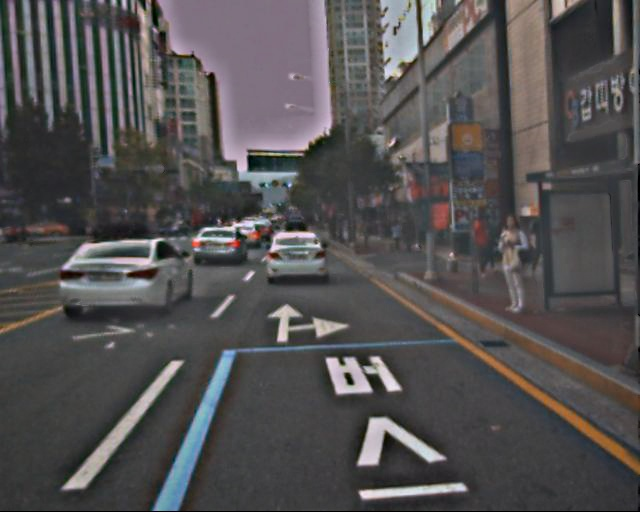person: (489, 216, 530, 317), (467, 212, 495, 280), (401, 212, 419, 255), (390, 217, 404, 251)
